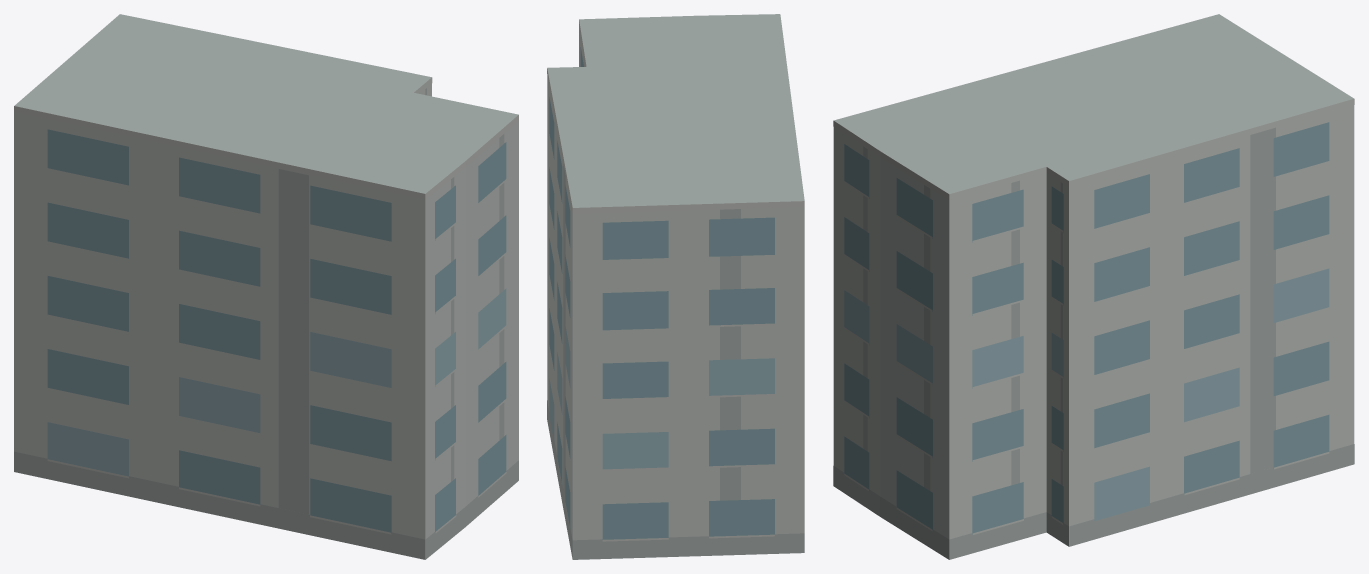
Rendered from survey-upis-32885088.glb.
3 renders of one model, left to right at view 1: azimuth 30°, elevation 25°; view 2: azimuth 150°, elevation 25°; view 3: azimuth 270°, elevation 25°, orthographic. The views are drawn at different scales.
Visible parts, largest first — view 1: survey-upis-32885088.tmp; view 2: survey-upis-32885088.tmp; view 3: survey-upis-32885088.tmp.
Part boxes in pixels (x1,y1,x2,y2): survey-upis-32885088.tmp: (14, 14, 518, 559); survey-upis-32885088.tmp: (547, 14, 804, 559); survey-upis-32885088.tmp: (833, 14, 1354, 559).
Bounding box in the file's own units: 15.13 × 14.3 × 18.47.
